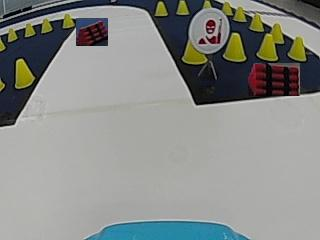evil: (188, 9, 229, 55)
